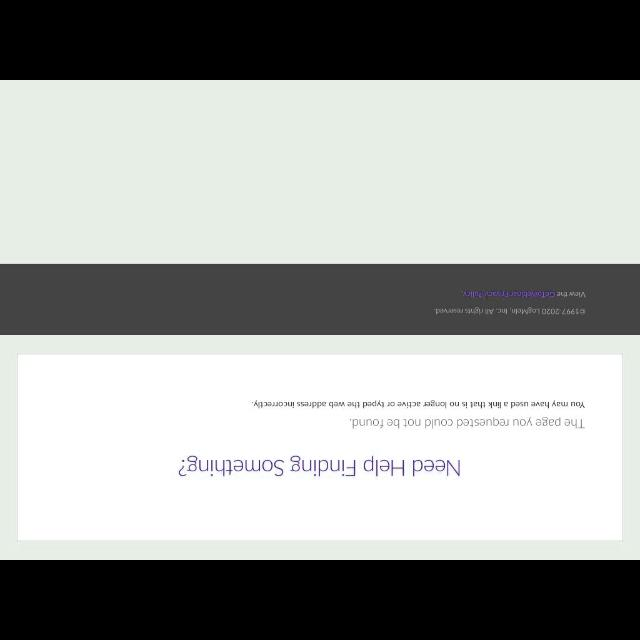link: (461, 290, 555, 300)
text: (176, 452, 464, 480), (347, 416, 585, 432), (249, 398, 587, 408), (431, 306, 585, 316), (459, 290, 586, 300)
